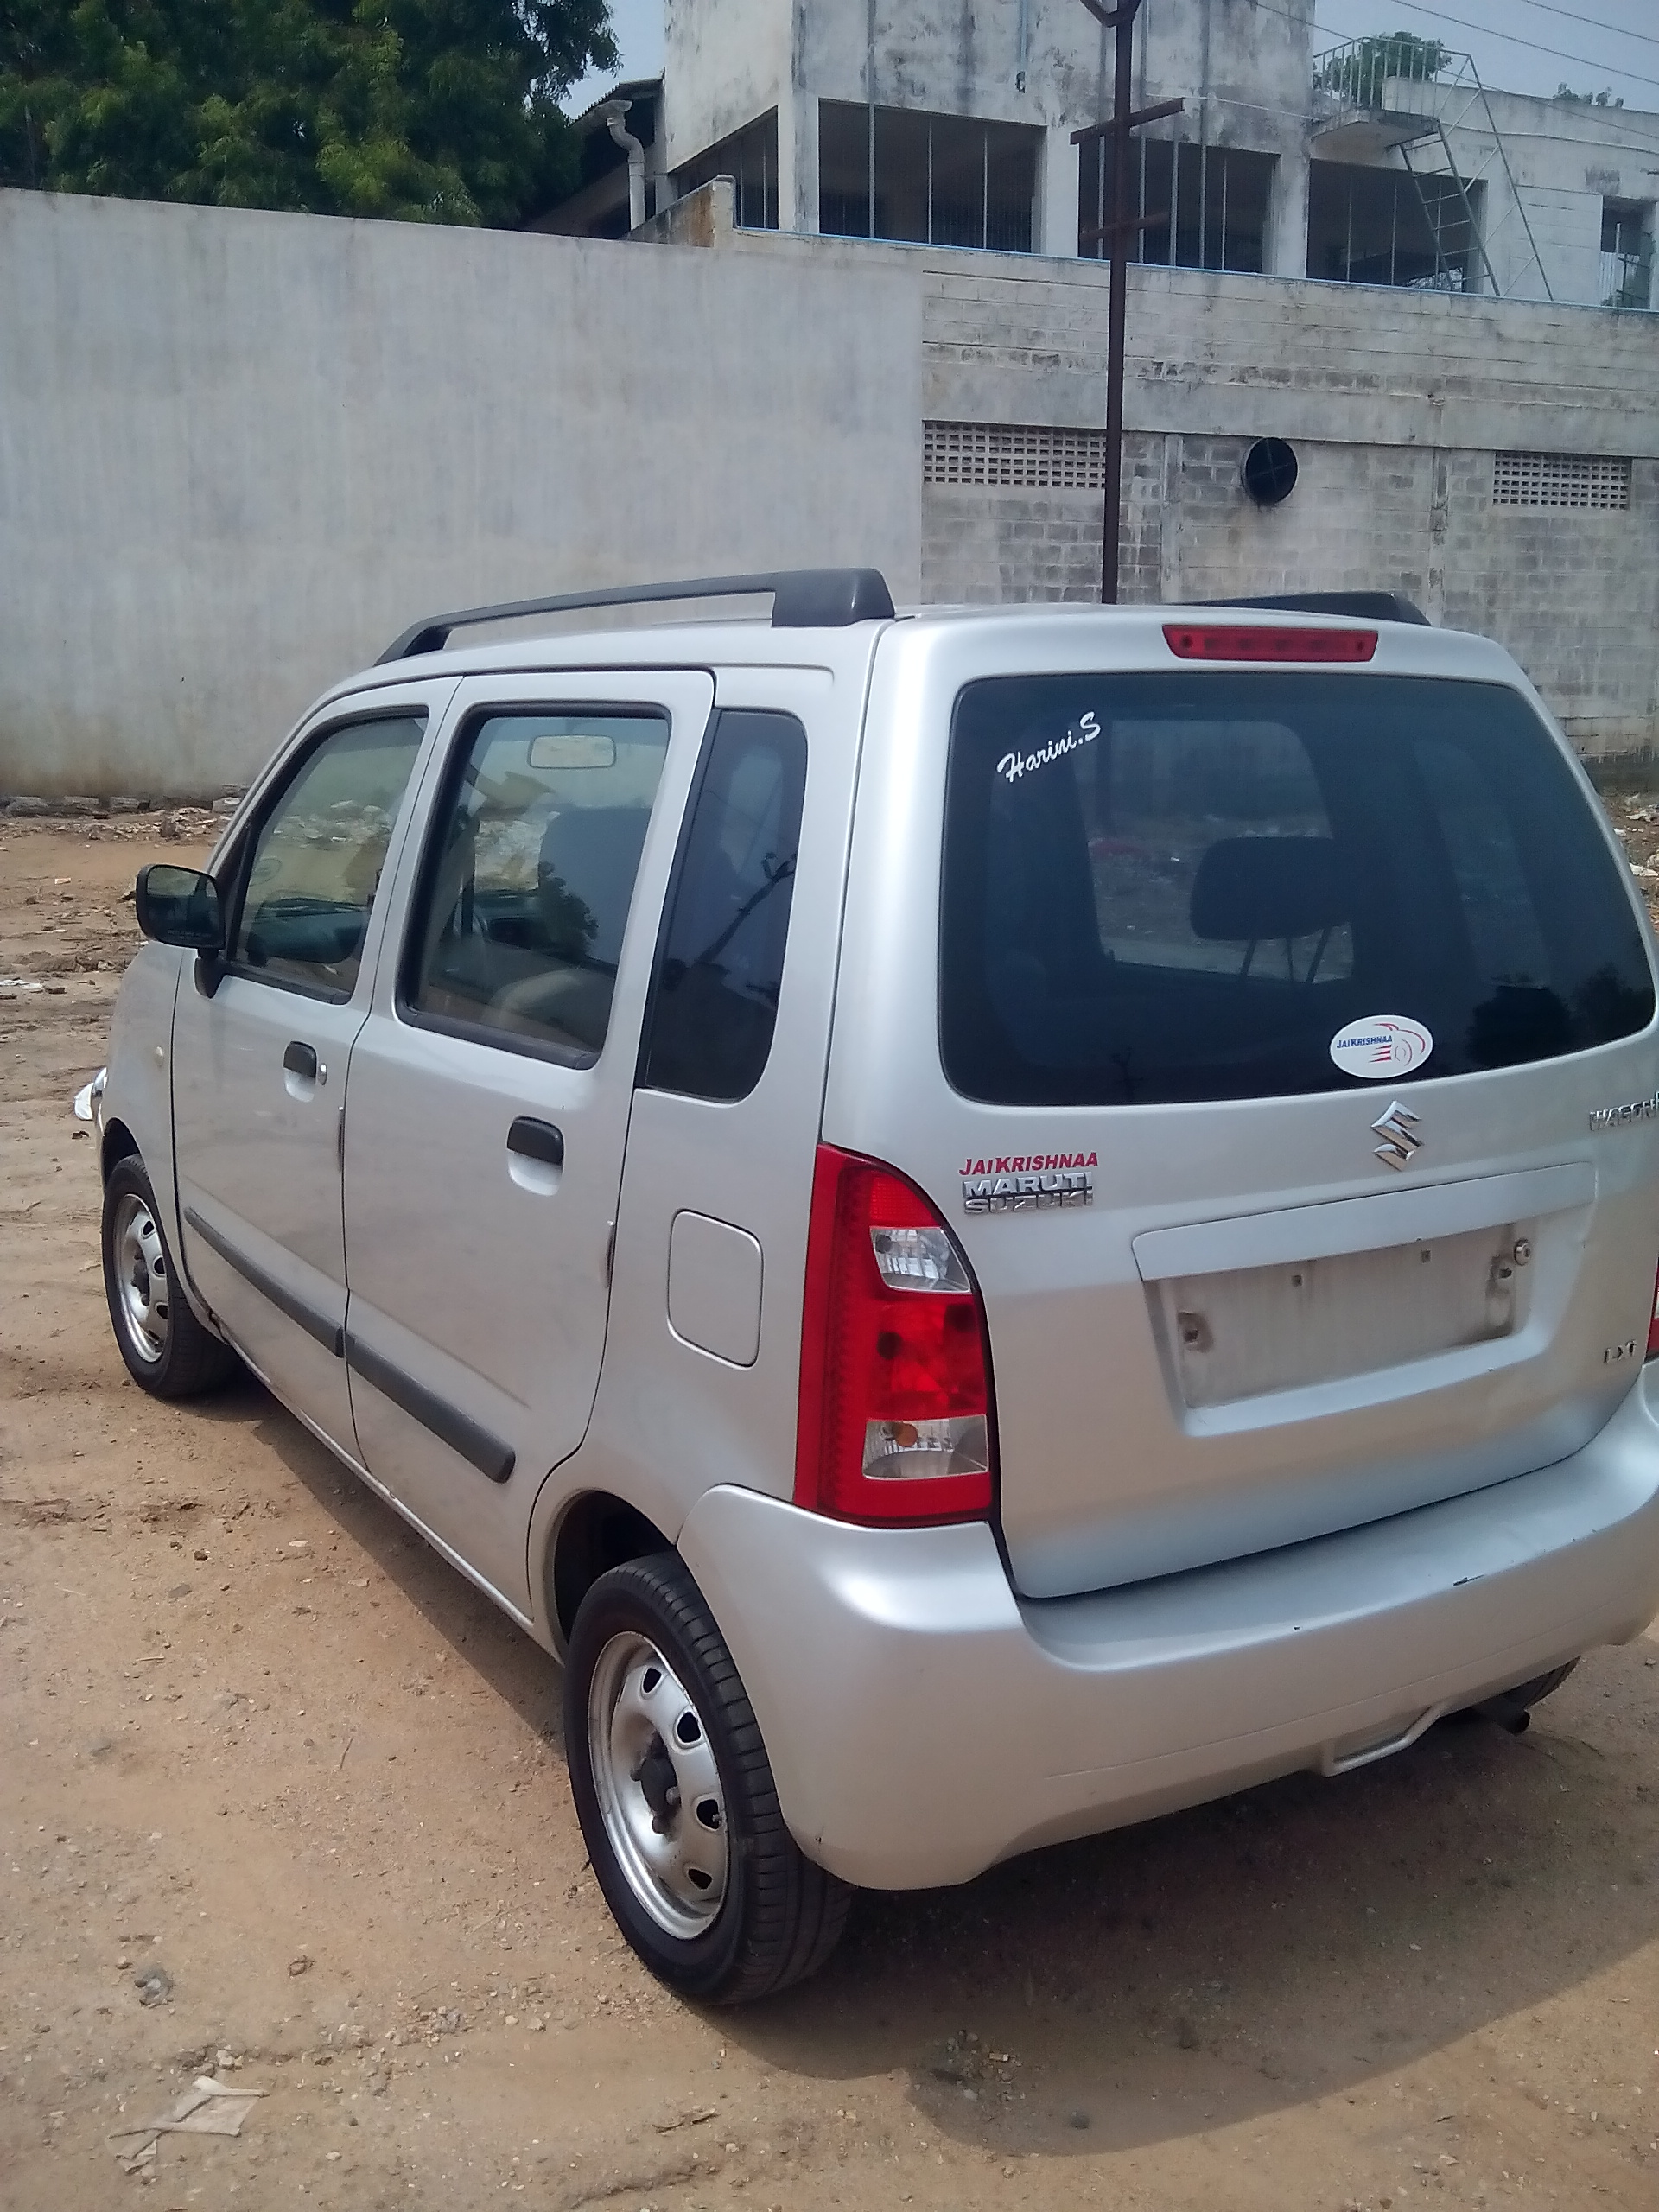Car: (89, 573, 1638, 1956)
